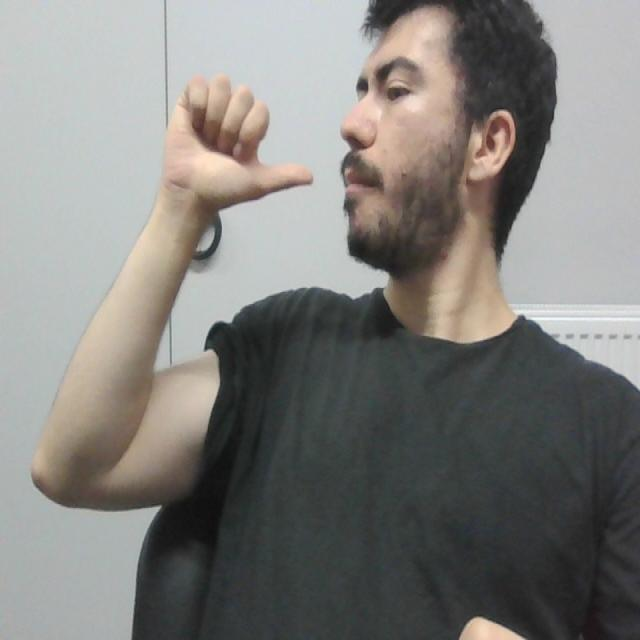icmek: (162, 72, 372, 208)
